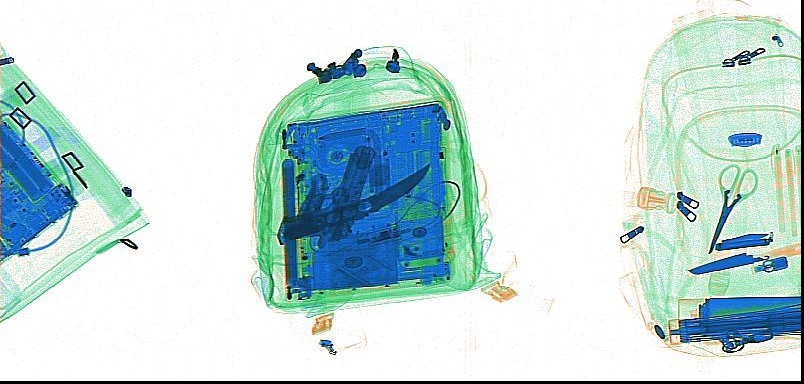knife: (280, 160, 431, 241), (685, 240, 799, 274), (294, 170, 328, 227), (712, 232, 775, 250)
pressure: (678, 296, 799, 332)
scissors: (706, 161, 758, 254)
